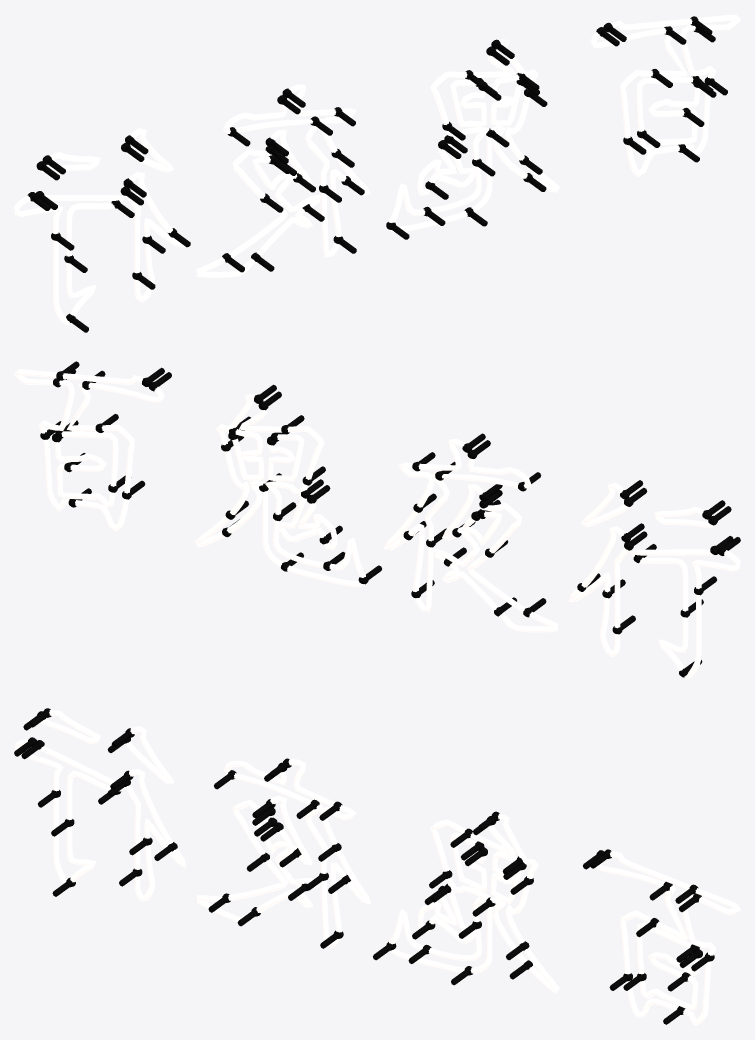
File: neon_hyakkiyakou.fbx
3 views of the same model, one above another, from view 1: azimuth 30°, elevation 25°; view 2: azimuth 150°, elevation 25°; view 3: azimuth 330°, elevation 25° (orthographic).
Visible parts, largest first — view 1: NeonEnglish; view 2: NeonEnglish; view 3: NeonEnglish.
Part boxes in pixels (left/top/right/bottom): NeonEnglish: left=14, top=14, right=740, bottom=332; NeonEnglish: left=14, top=361, right=740, bottom=679; NeonEnglish: left=14, top=708, right=740, bottom=1025.
Size of the model in its own units: 497 by 121 by 21.29.
